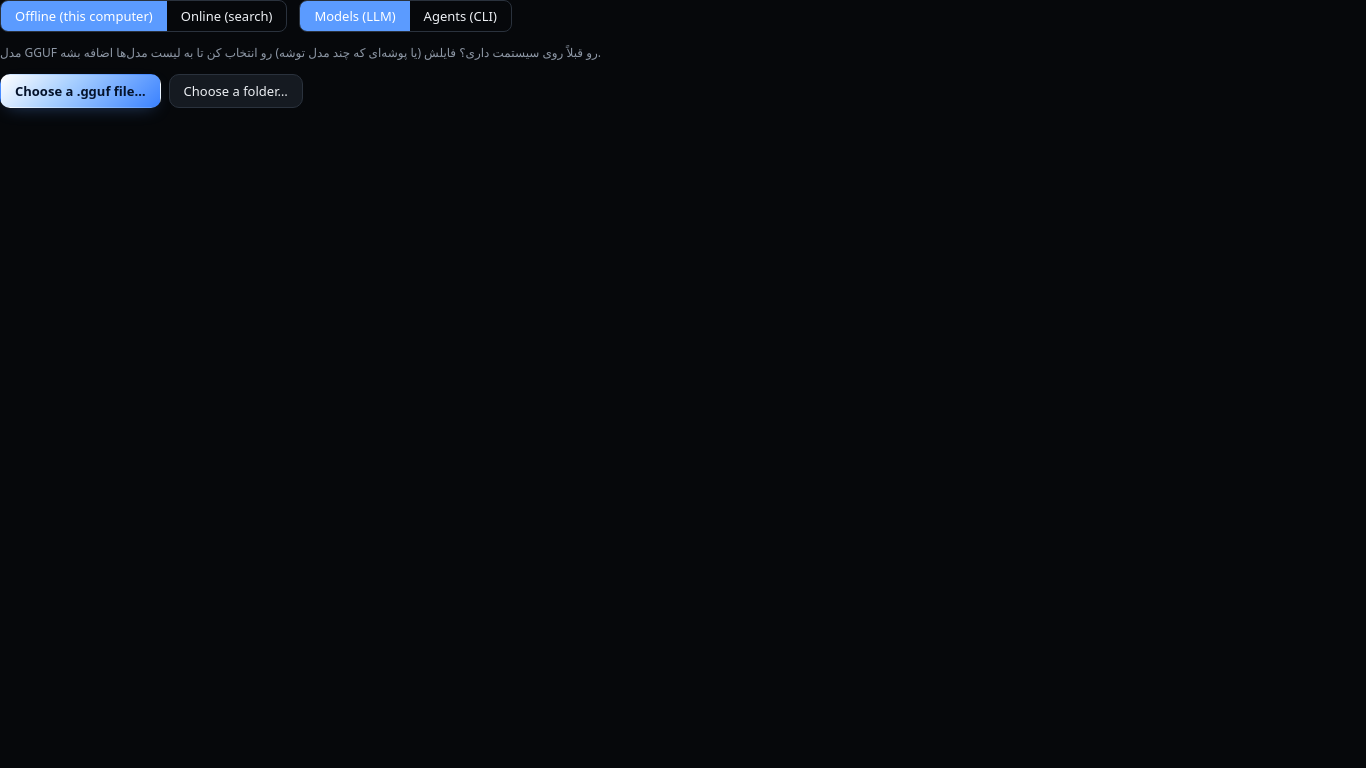
Test: BrowseTab › offline + models: picking a folder registers the folder; backend errors are readable
Click the button "Choose a folder…": coordinates (236, 91) top-left (168, 74), bottom-right (303, 108)
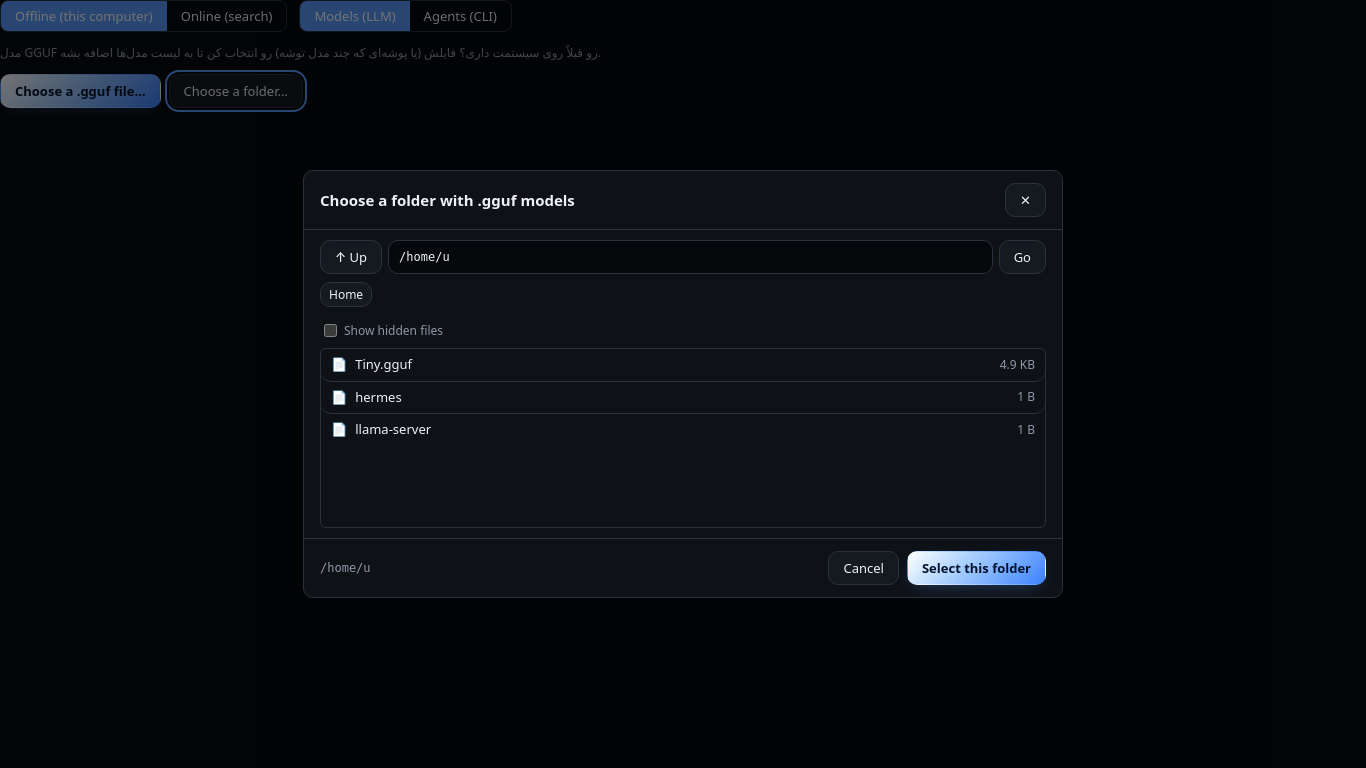
Click the button "Select this folder": coordinates (976, 568) top-left (907, 551), bottom-right (1046, 585)
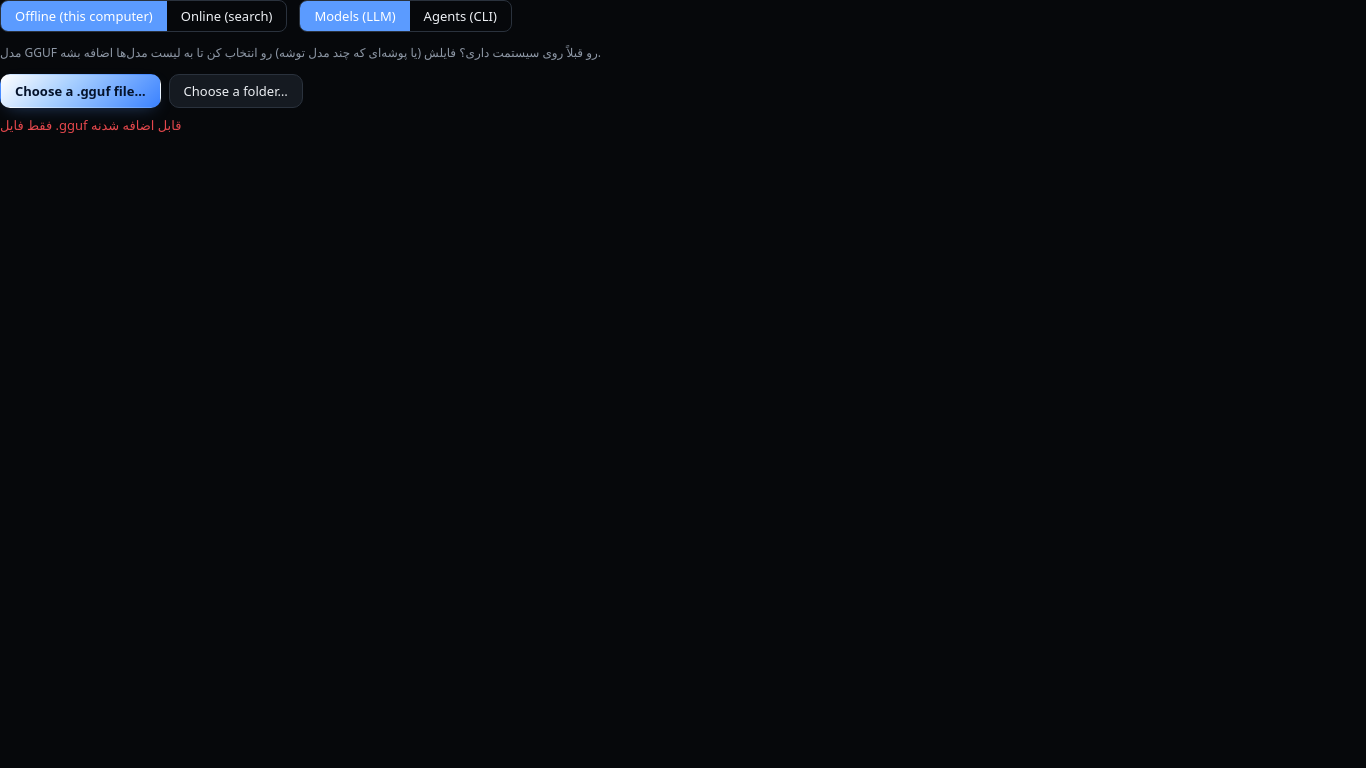
Expected: the text "فقط فایل .gguf قابل اضافه شدنه" is shown, top-left (0, 116), bottom-right (181, 134)
